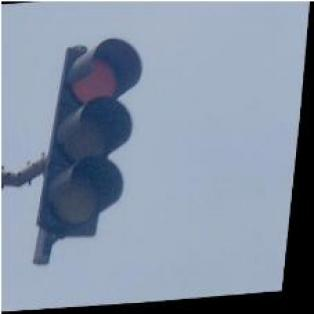Semaforo Rojo: (35, 34, 148, 245)
